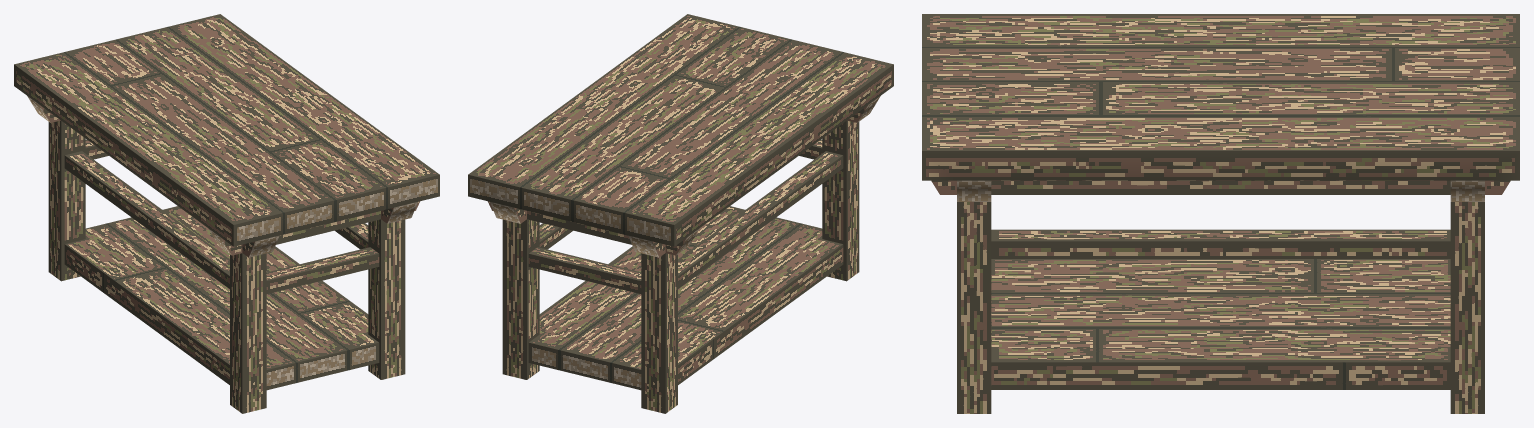
The model's file is table.glb.
3 renders of one model, left to right at view 1: azimuth 30°, elevation 25°; view 2: azimuth 150°, elevation 25°; view 3: azimuth 270°, elevation 25°, orthographic. The views are drawn at different scales.
Visible parts, largest first — view 1: Cube.002; view 2: Cube.002; view 3: Cube.002.
Boxes of the visible parts, box(x1,y1,x2,y2) form: Cube.002: box(14, 14, 439, 413); Cube.002: box(468, 14, 893, 413); Cube.002: box(922, 14, 1519, 413).
Size of the model in its own units: 1.45 by 1.37 by 2.67.
1 material, 1 textured.
